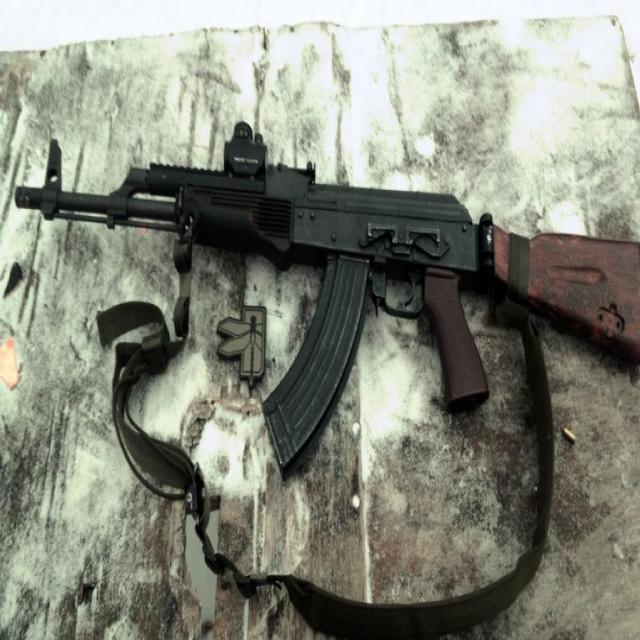firearm: (17, 122, 640, 472)
